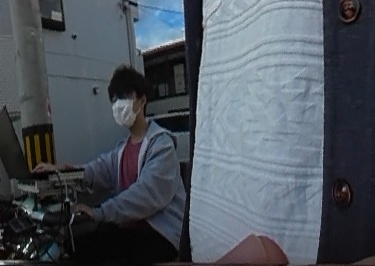person: (64, 63, 188, 266)
